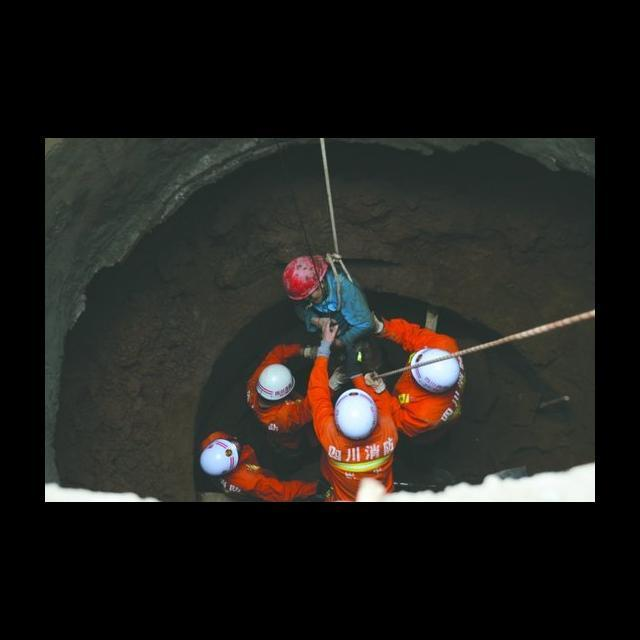helmet: (332, 383, 386, 449), (189, 429, 251, 484), (276, 252, 338, 302), (408, 345, 464, 398), (250, 362, 302, 410)
